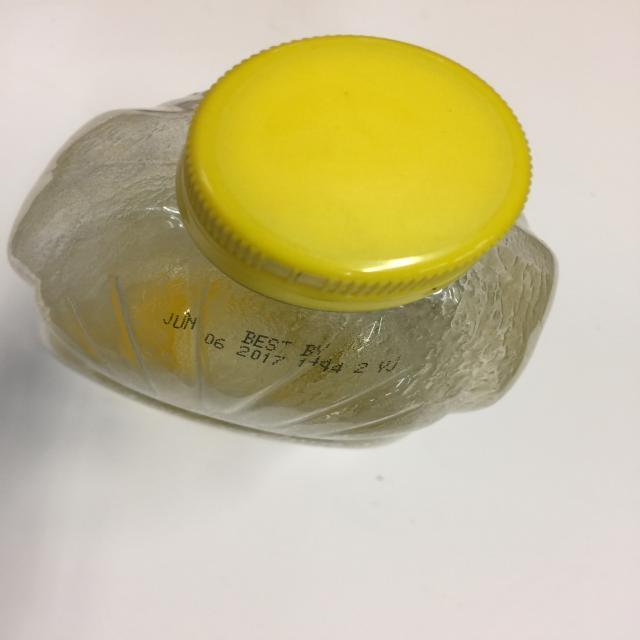plastic: (19, 36, 564, 453)
